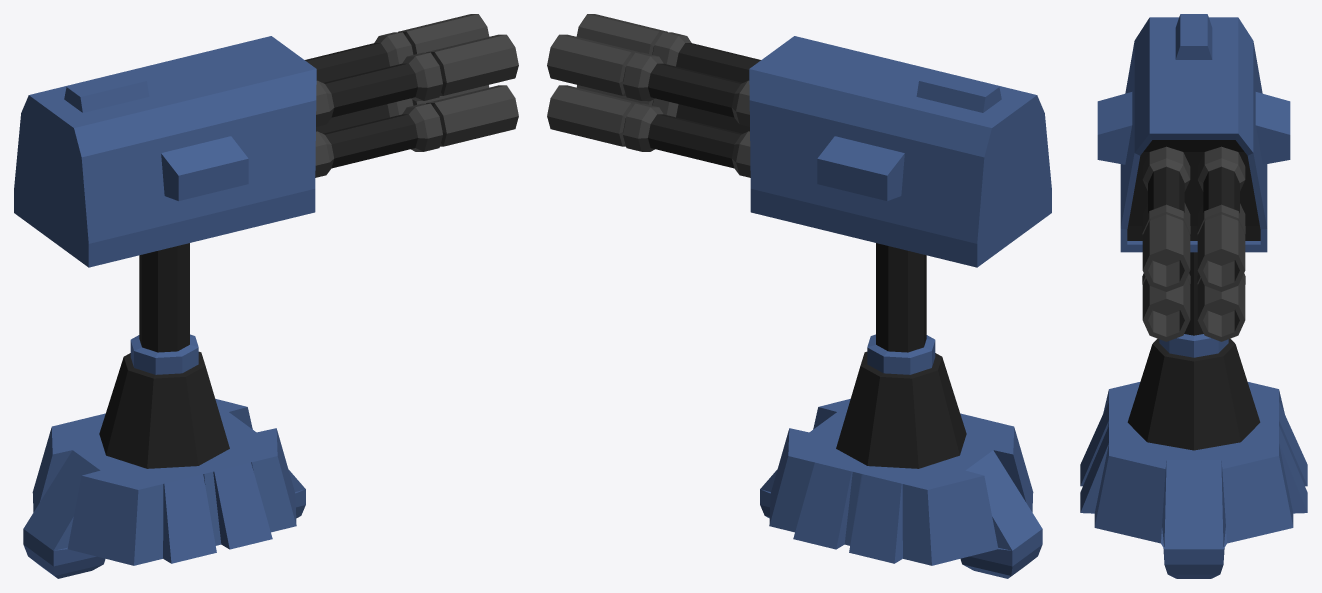
The model's file is NewTurret.fbx.
3 renders of one model, left to right at view 1: azimuth 30°, elevation 25°; view 2: azimuth 150°, elevation 25°; view 3: azimuth 270°, elevation 25°, orthographic.
Visible parts, largest first — view 1: UpperPart, LowerPart, Barrels; view 2: UpperPart, LowerPart, Barrels; view 3: LowerPart, UpperPart, Barrels.
Boxes of the visible parts, x1=… form: UpperPart: x1=14, y1=36, x2=316, y2=267; LowerPart: x1=23, y1=243, x2=305, y2=578; Barrels: x1=305, y1=14, x2=518, y2=177; UpperPart: x1=749, y1=36, x2=1051, y2=267; LowerPart: x1=760, y1=243, x2=1042, y2=578; Barrels: x1=547, y1=14, x2=760, y2=177; LowerPart: x1=1080, y1=252, x2=1307, y2=578; UpperPart: x1=1097, y1=14, x2=1290, y2=252; Barrels: x1=1142, y1=146, x2=1245, y2=341.
Size of the model in its own units: 2.81 by 2.82 by 1.24.
